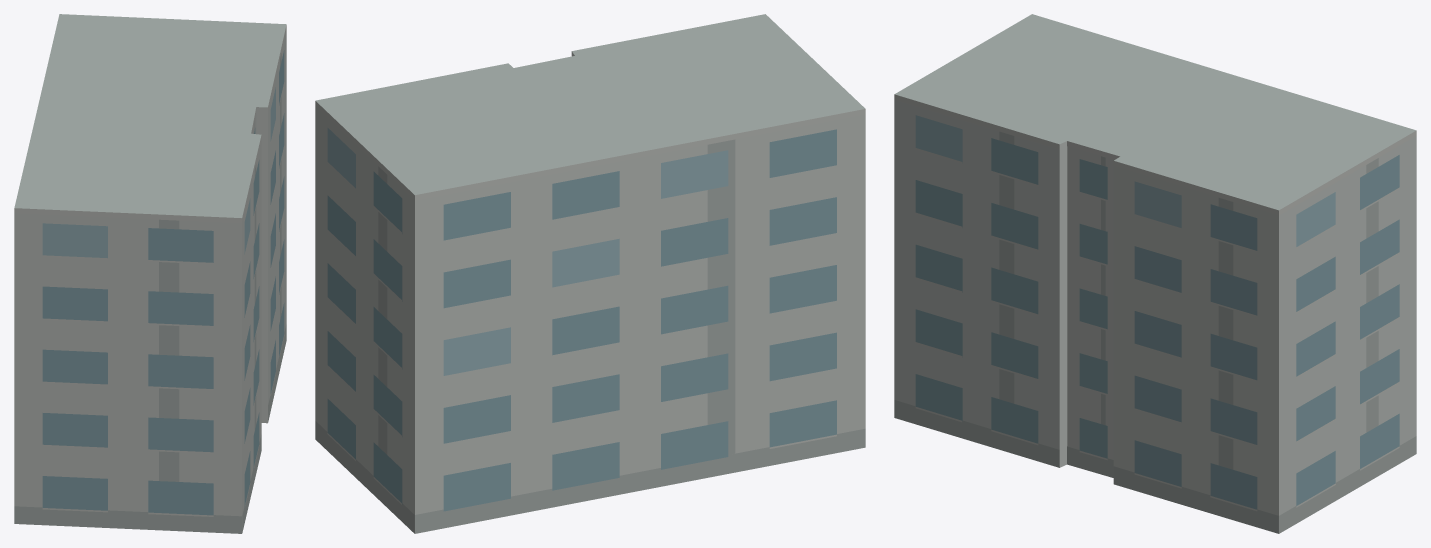
The model's file is survey-upis-32839130.glb.
3 views of the same model, side by side, from view 1: azimuth 30°, elevation 25°; view 2: azimuth 150°, elevation 25°; view 3: azimuth 270°, elevation 25° (orthographic). The views are drawn at different scales.
Parts seen in each view (by area): view 1: survey-upis-32839130.tmp; view 2: survey-upis-32839130.tmp; view 3: survey-upis-32839130.tmp.
Part boxes in pixels (x1,y1,x2,y2): survey-upis-32839130.tmp: [14, 14, 286, 533]; survey-upis-32839130.tmp: [315, 14, 865, 533]; survey-upis-32839130.tmp: [894, 14, 1416, 533].
Bounding box in the file's own units: 19.14 × 14.7 × 21.51.
